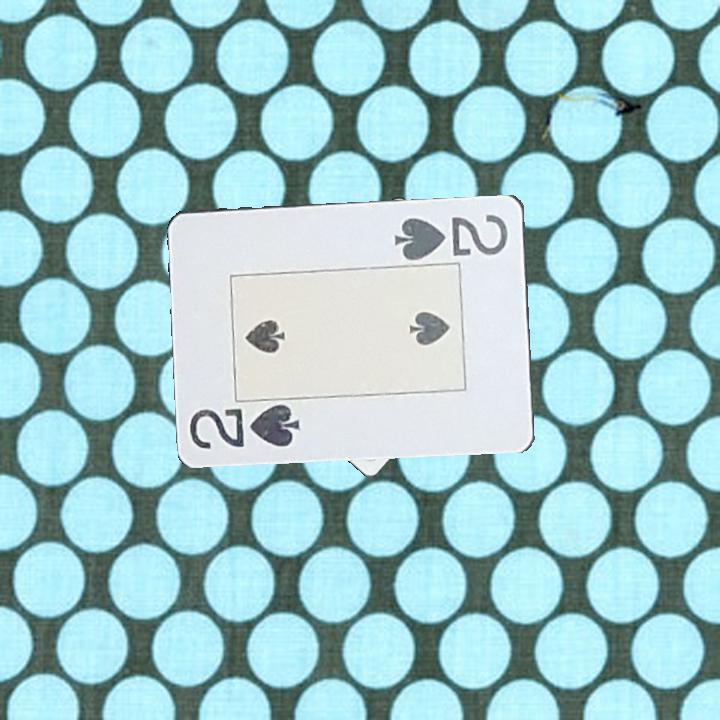2s: (391, 210, 511, 262), (186, 400, 304, 452)
